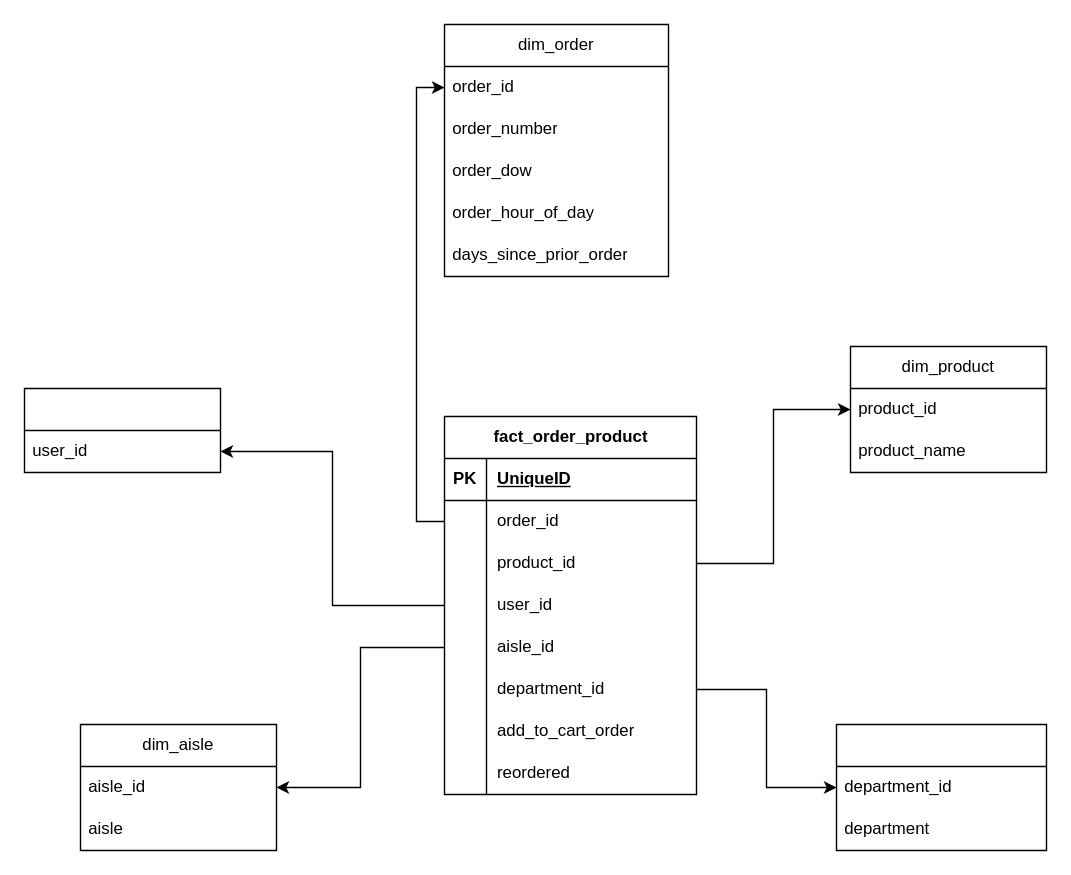
Image size: 1071x875. Some labels were removed from this diagram. Each missing label, with the box of its shape:
dim_department: (835, 723, 1046, 850)
dim_user: (23, 387, 220, 472)
